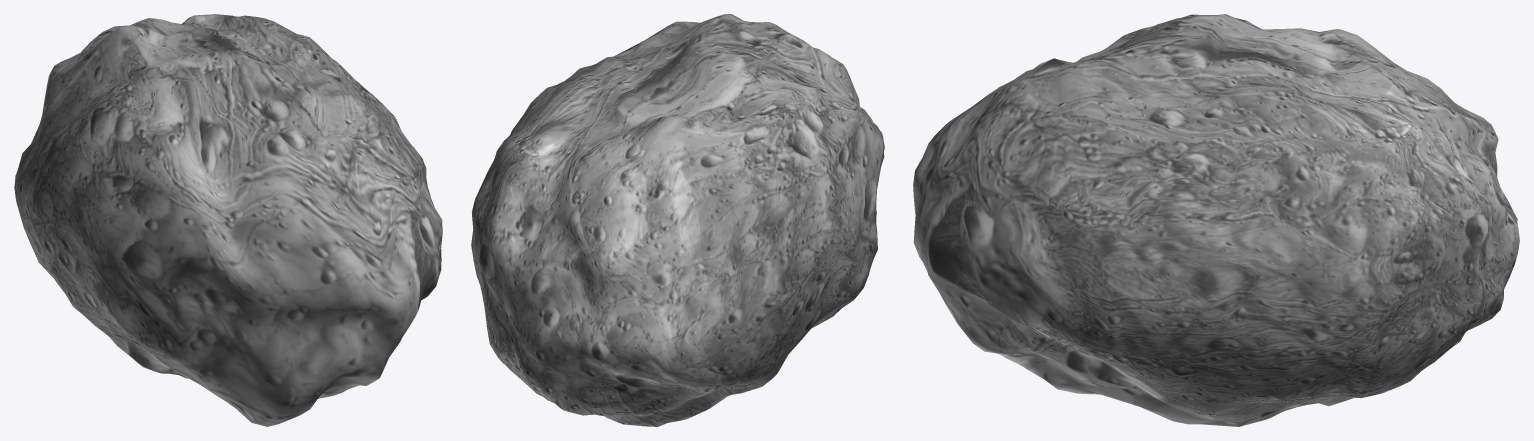
Rendered from Asteroid-6.FBX.
3 renders of one model, left to right at view 1: azimuth 30°, elevation 25°; view 2: azimuth 150°, elevation 25°; view 3: azimuth 270°, elevation 25°, orthographic. The views are drawn at different scales.
Parts seen in each view (by area): view 1: GeoSphere001; view 2: GeoSphere001; view 3: GeoSphere001.
Boxes of the visible parts, x1,y1,x2,y2 form: GeoSphere001: (14,14,442,426); GeoSphere001: (471,14,884,426); GeoSphere001: (913,14,1519,426).
Size of the model in its own units: 29.52 by 30.6 by 45.77.
